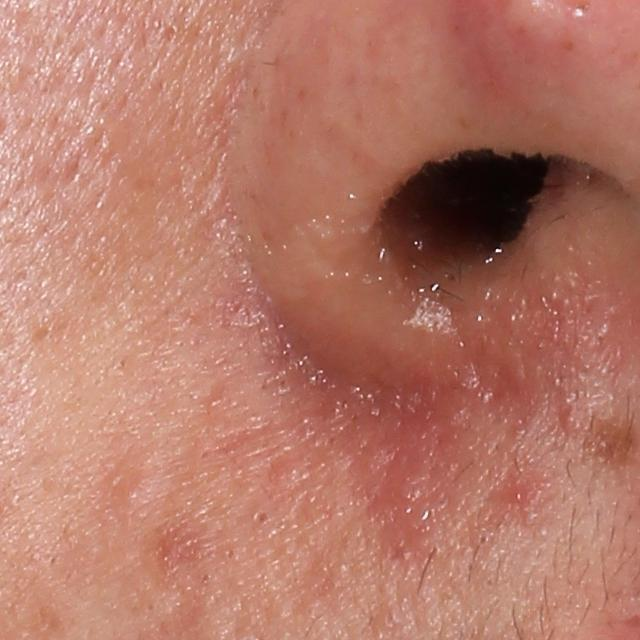comedo: (471, 529, 496, 552), (252, 508, 274, 530)
